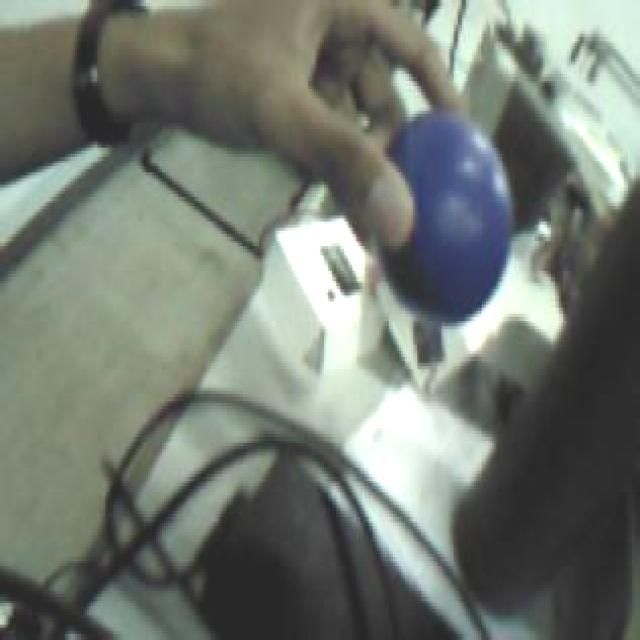BallPurple: (381, 111, 511, 327)
